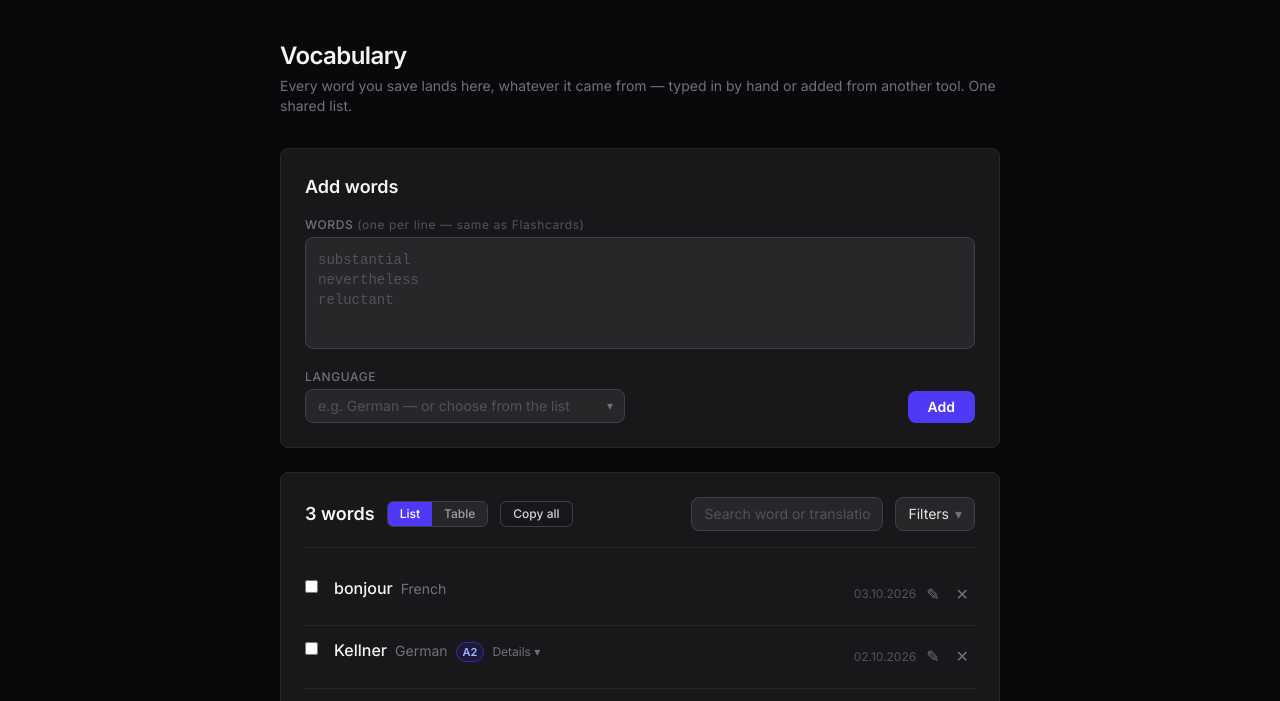
deleting several words at once › speaks of one word when one is ticked
The image size is (1280, 701).
What coordinates should you click on to do the following:
click the checkbox titled "Select" next to "bonjour"
I would click on:
 (312, 586)
Its box is [305, 580, 318, 593].
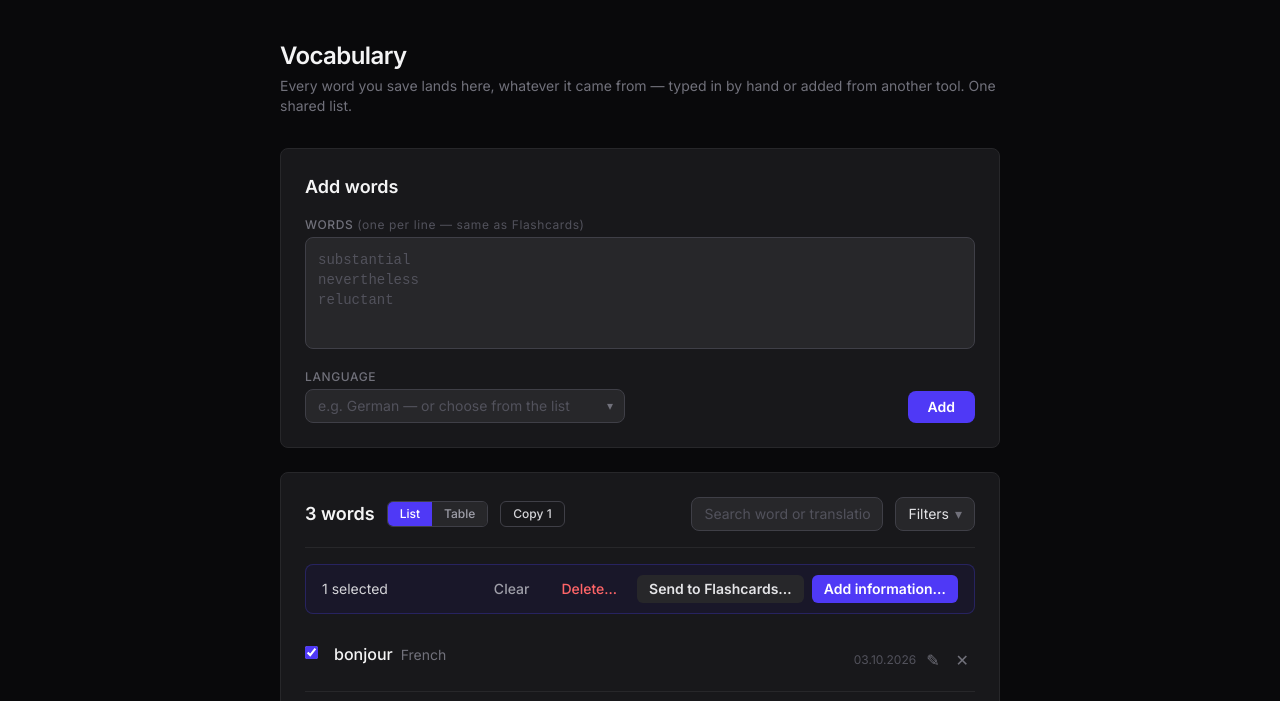
What coordinates should you click on to do the following:
click the button "Delete…"
I would click on:
 (589, 589)
Its box is [549, 575, 629, 603].
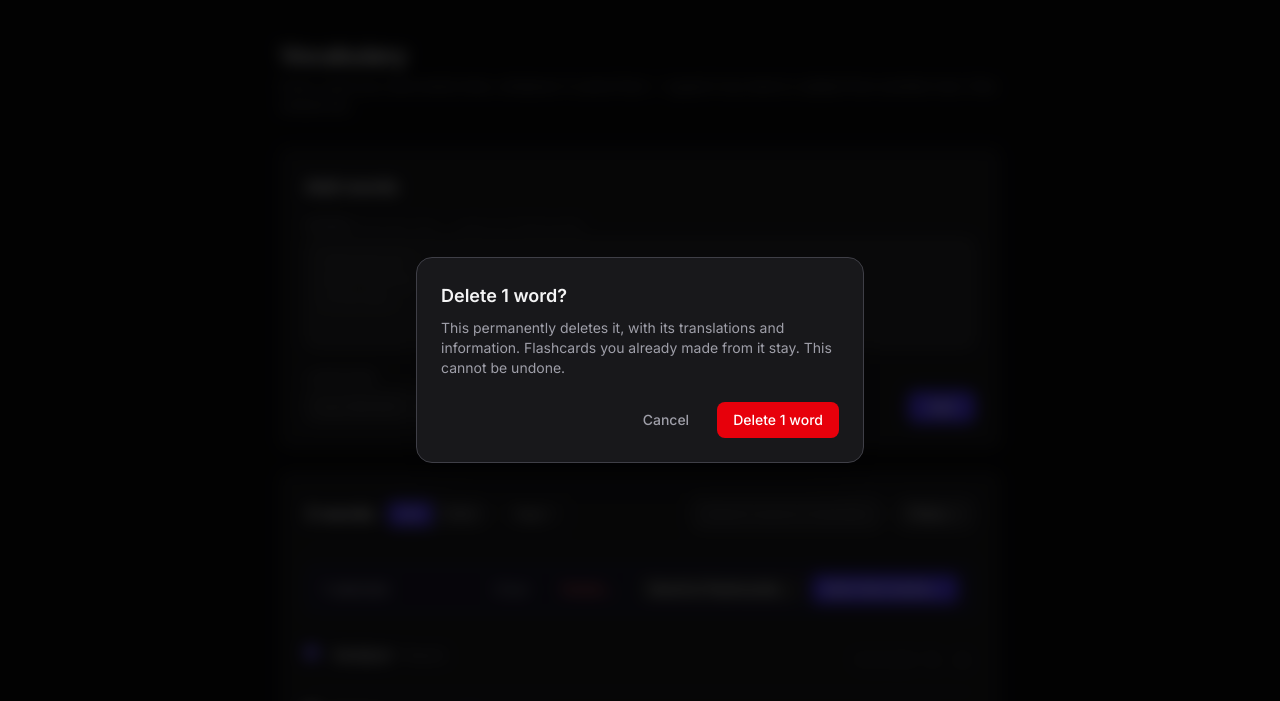
Check: the dialog "Delete 1 word?" shows "This permanently deletes it, with its translations", box [416, 257, 864, 463]
